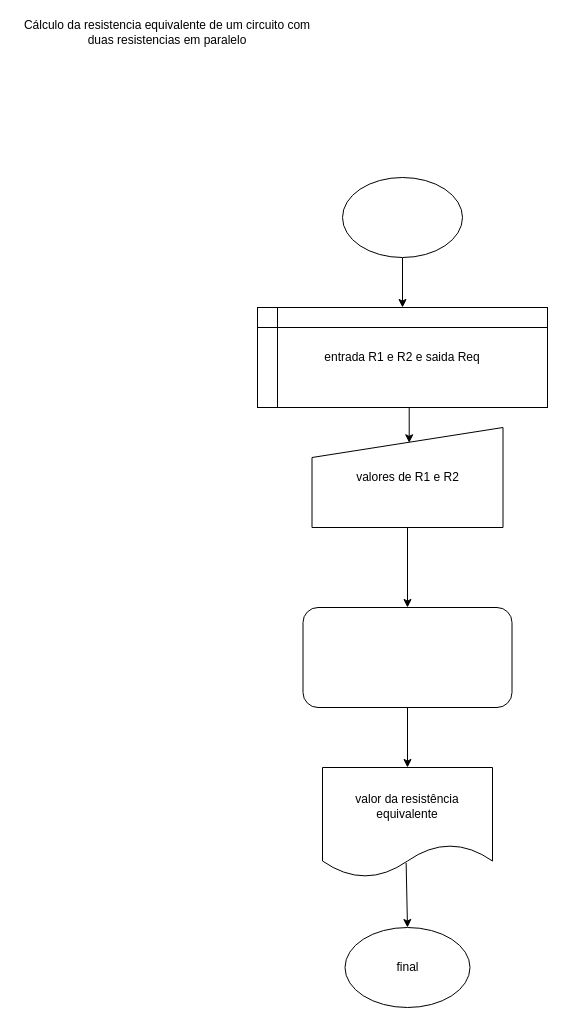
Some shapes in this 565 by 1025 pixel diagram are drawn without their labels. Each missing label, with the box of its shape:
INICIO: (342, 176, 462, 258)
RT= (R1* R2)/(R1+R2): (302, 606, 512, 708)
